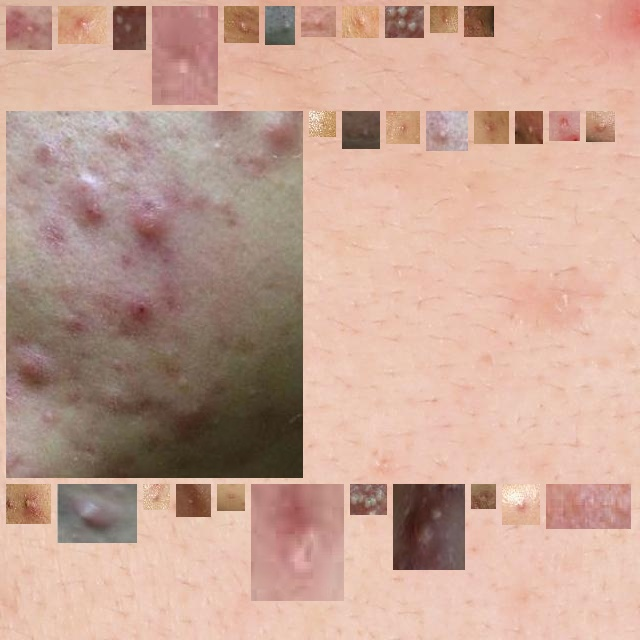pustule: (14, 119, 295, 470), (259, 492, 336, 593), (160, 14, 210, 97), (401, 492, 457, 562), (57, 492, 129, 535), (554, 492, 623, 521), (14, 14, 44, 42), (66, 14, 99, 36), (14, 492, 43, 516), (434, 119, 460, 143), (510, 492, 532, 517), (350, 119, 372, 141), (273, 14, 294, 37), (121, 14, 138, 42), (232, 14, 251, 37), (393, 14, 416, 30), (350, 14, 371, 30), (482, 119, 501, 136), (184, 492, 203, 509), (358, 492, 379, 507), (394, 119, 412, 136), (309, 14, 328, 29), (472, 14, 486, 29), (557, 119, 572, 133), (523, 119, 535, 136), (594, 119, 607, 134), (438, 14, 450, 25), (225, 492, 237, 503), (317, 119, 328, 129), (151, 492, 162, 502), (479, 492, 488, 501)
